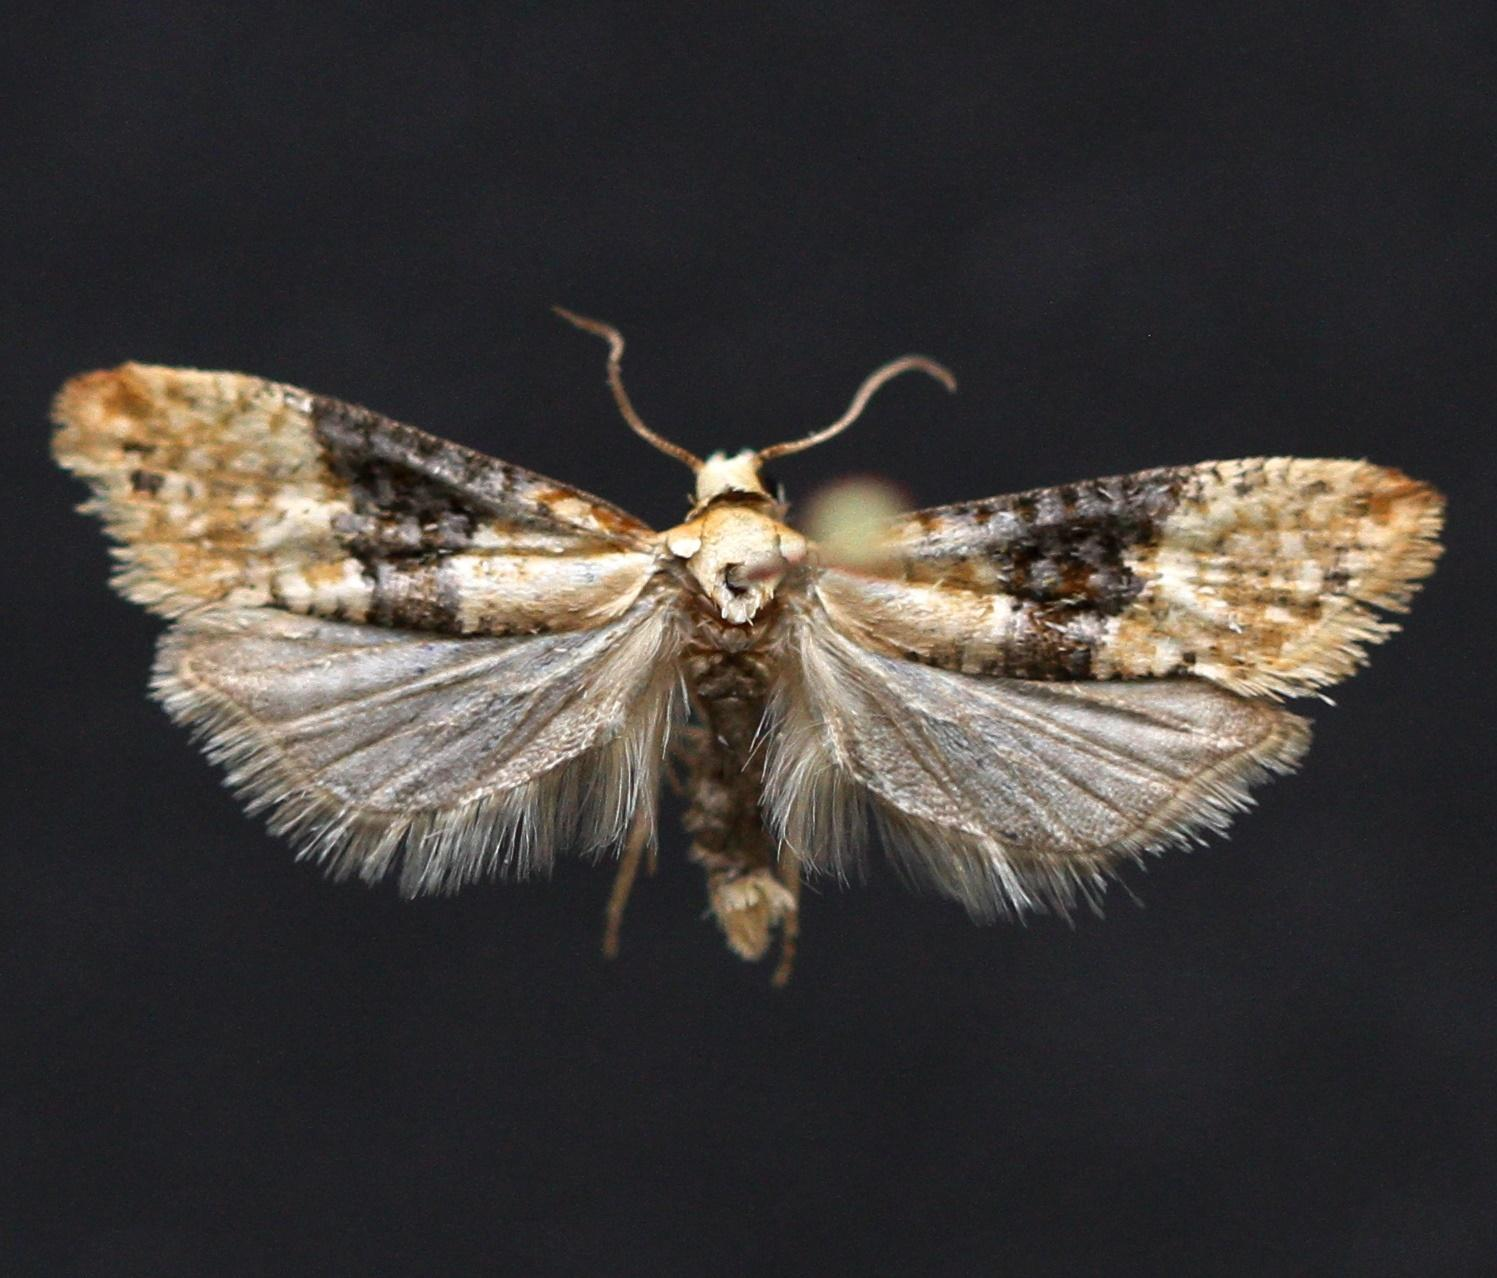Eupoecilia Ambiguella: (46, 298, 1449, 986)
